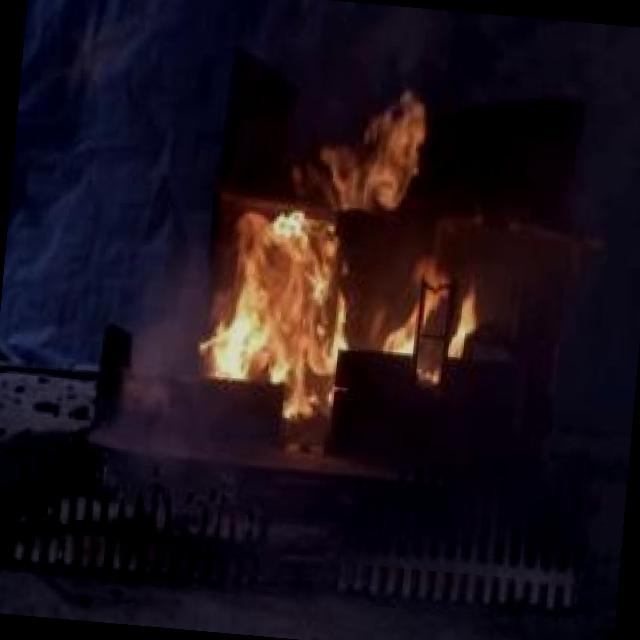fire: (197, 76, 464, 435)
